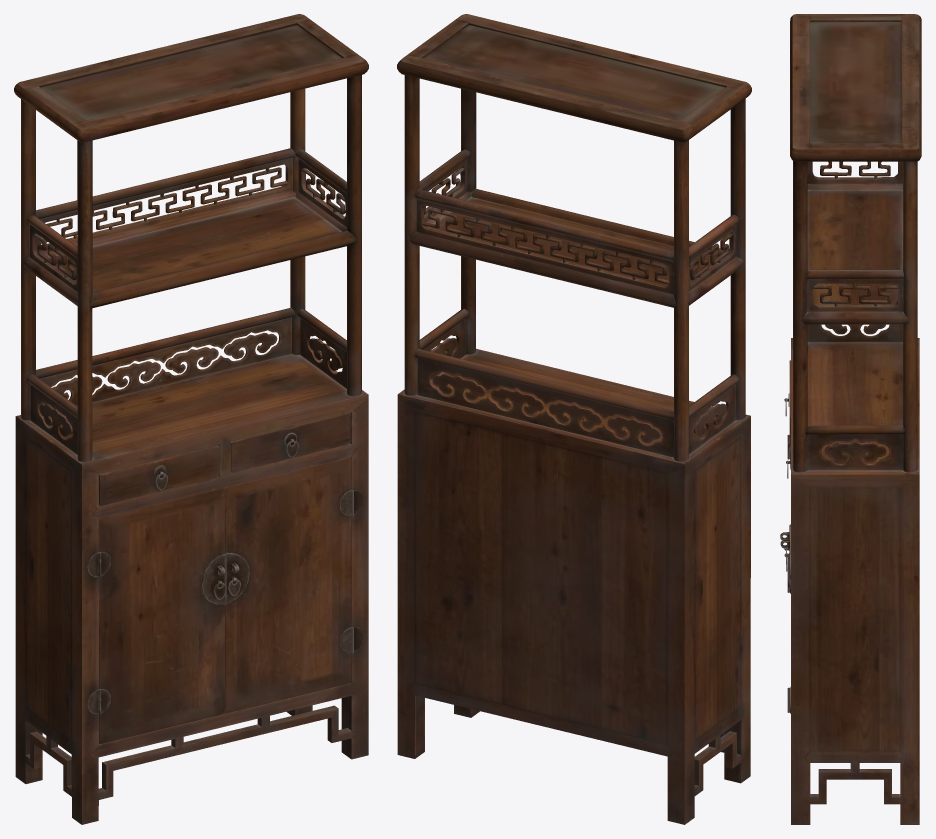
File: chinese_cabinet.glb
The picture shows the model from 3 angles, left to right: view 1: azimuth 30°, elevation 25°; view 2: azimuth 150°, elevation 25°; view 3: azimuth 270°, elevation 25°; orthographic projection. The views are drawn at different scales.
Visible parts, largest first — view 1: chinese_cabinet; view 2: chinese_cabinet; view 3: chinese_cabinet.
Part boxes in pixels (x1=…): chinese_cabinet: x1=14, y1=14, x2=368, y2=824; chinese_cabinet: x1=397, y1=14, x2=751, y2=824; chinese_cabinet: x1=780, y1=14, x2=921, y2=824.
Size of the model in its own units: 1.26 by 2.87 by 0.5452.
1 material, 1 textured.
